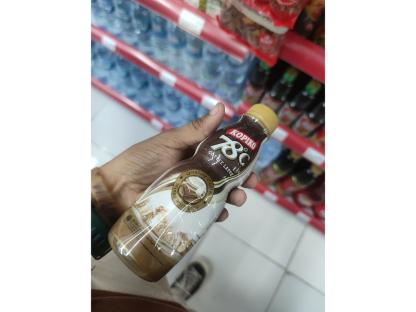Plastic Bottle: (108, 102, 296, 284)
